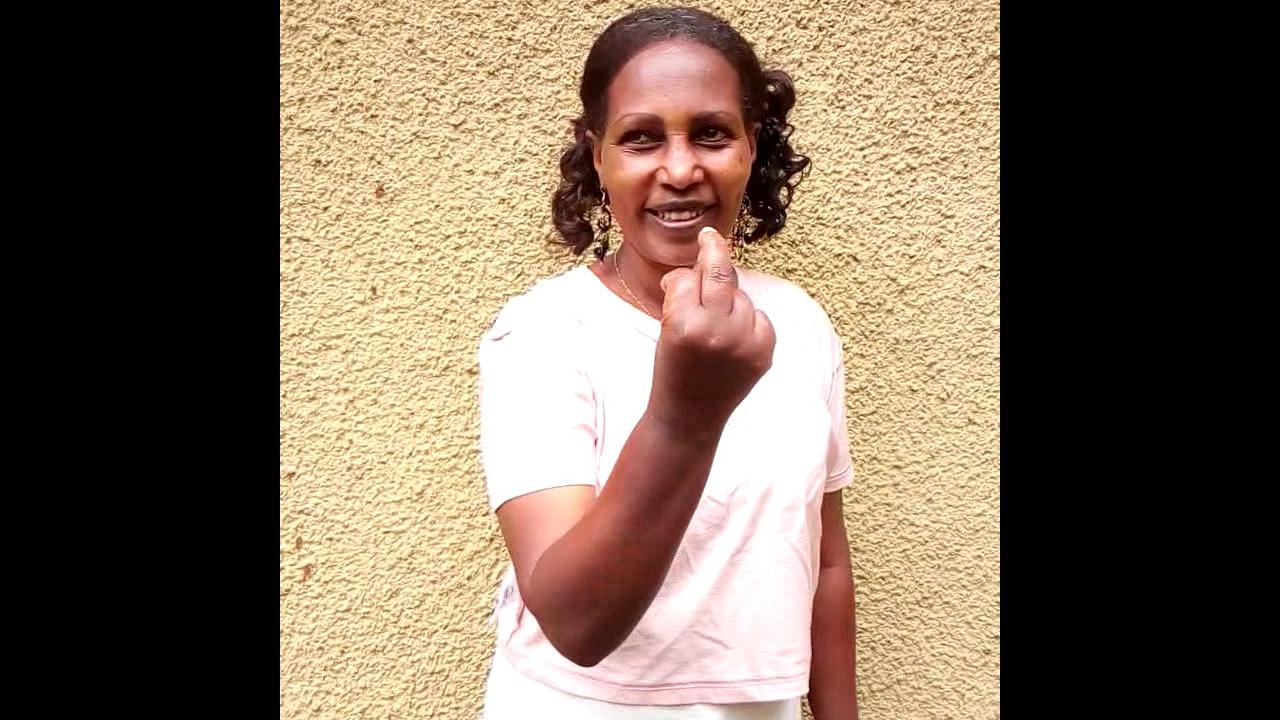CHE: (640, 227, 781, 496)
